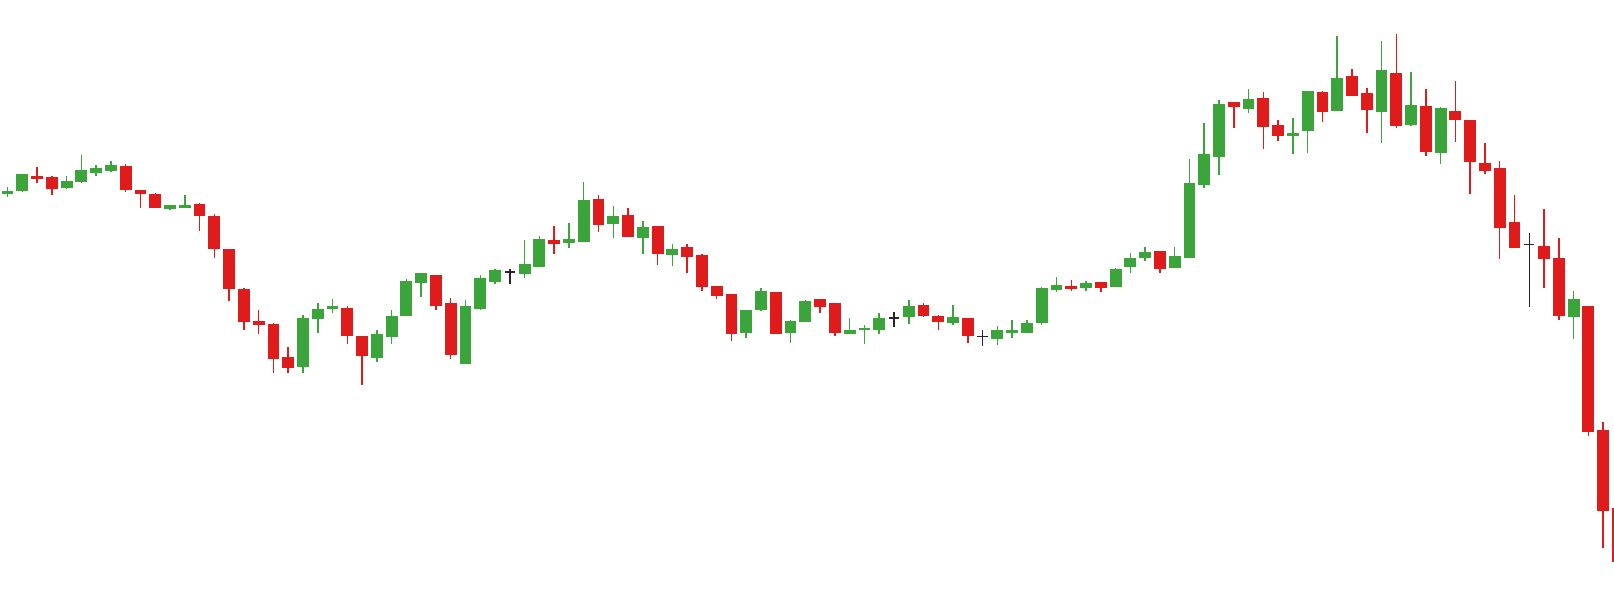buy: (264, 320, 369, 388)
